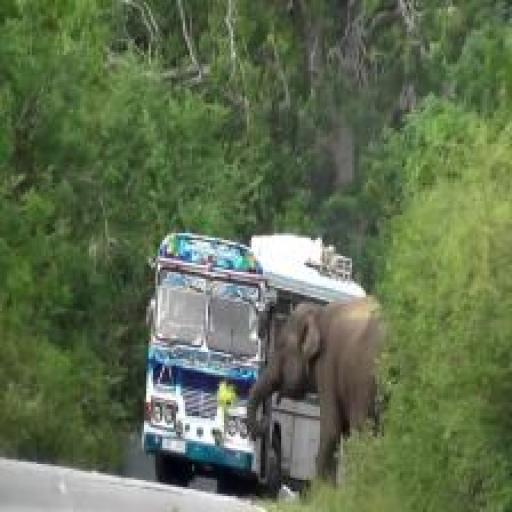Elephant: (244, 302, 383, 449)
